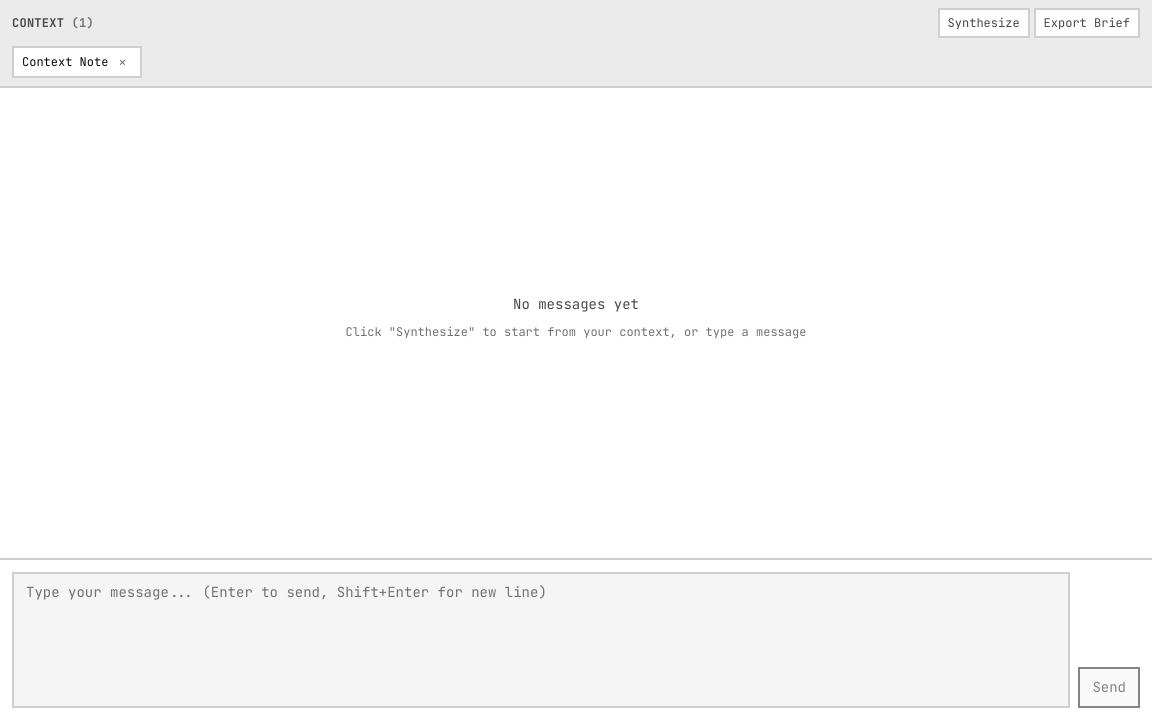
Test: ProbeChat component › uses default export direction and surfaces export failures
What coordinates should you click on to do the following:
click the button "Export Brief"
I would click on:
 (1087, 23)
Its box is [1034,8,1140,38].
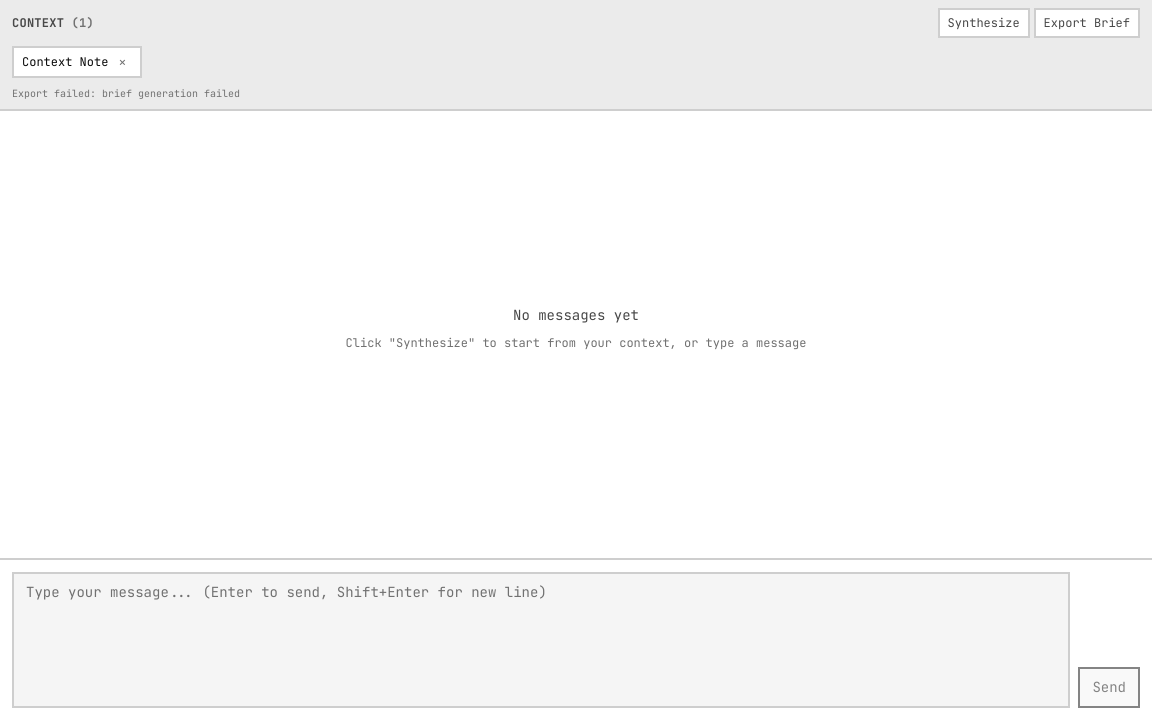
Expected: the text "Export failed: brief generation failed" is shown, [12,87,240,100]
